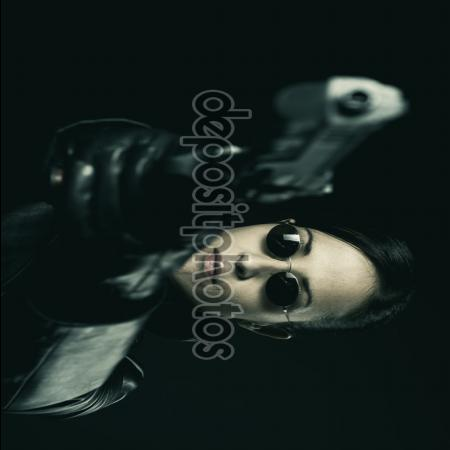Pistol: (67, 74, 400, 218)
